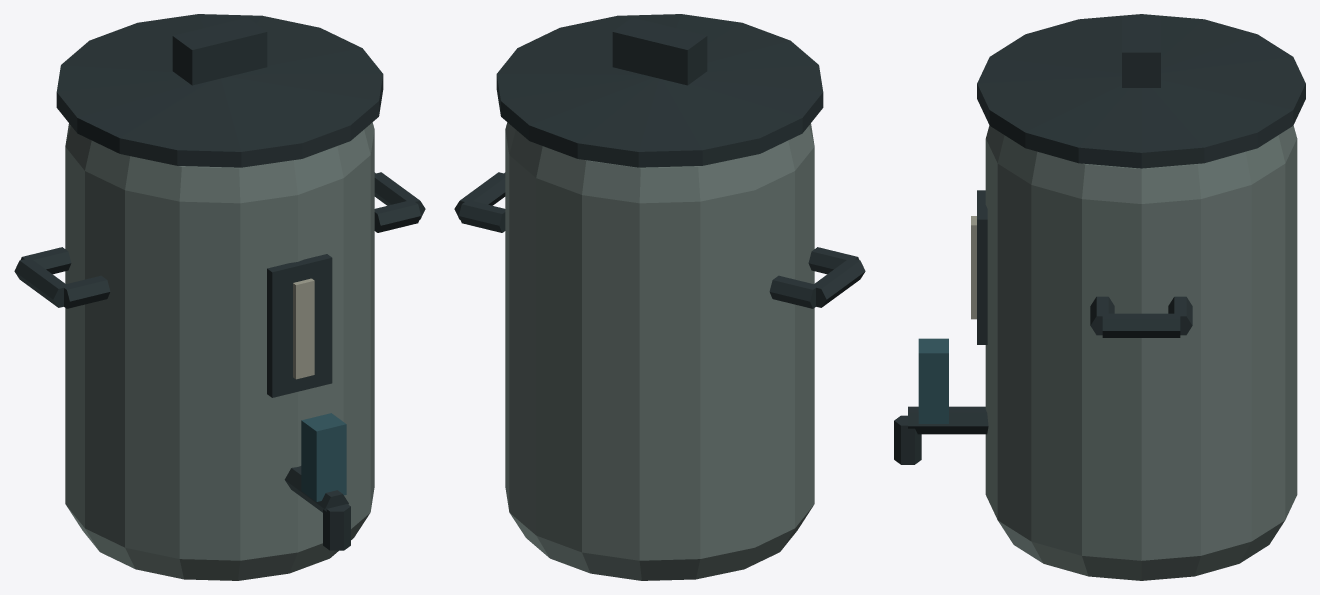
3 renders of one model, left to right at view 1: azimuth 30°, elevation 25°; view 2: azimuth 150°, elevation 25°; view 3: azimuth 270°, elevation 25°, orthographic.
Visible parts, largest first — view 1: a200; view 2: a200; view 3: a200.
Boxes of the visible parts, x1=… form: a200: x1=14, y1=14, x2=425, y2=580; a200: x1=454, y1=14, x2=865, y2=580; a200: x1=894, y1=14, x2=1305, y2=580.
Bounding box in the file's own units: 0.496 × 0.6225 × 0.476.
